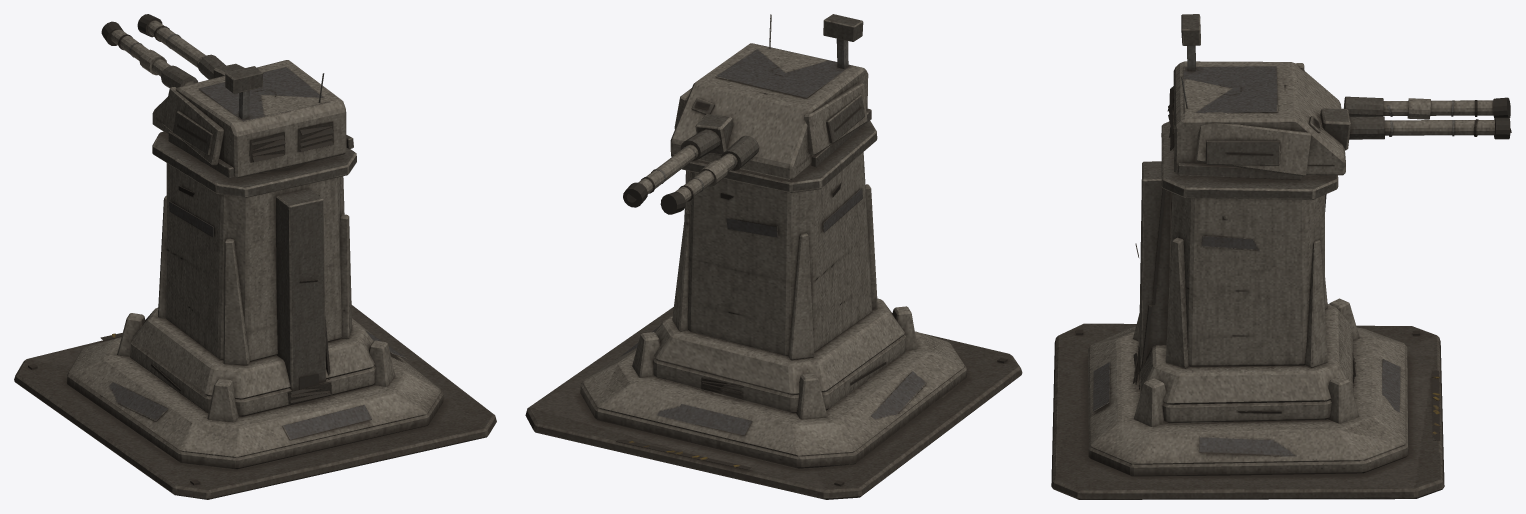
Rendered from ord_bastion_wreck.fbx.
The picture shows the model from 3 angles, left to right: view 1: azimuth 30°, elevation 25°; view 2: azimuth 150°, elevation 25°; view 3: azimuth 270°, elevation 25°; orthographic projection. The views are drawn at different scales.
Parts seen in each view (by area): view 1: base_bar, turret_bar; view 2: base_bar, turret_bar; view 3: base_bar, turret_bar.
Part boxes in pixels (<box>): base_bar: <box>14,131,496,499</box>; turret_bar: <box>101,14,353,178</box>; base_bar: <box>525,120,1022,499</box>; turret_bar: <box>623,14,871,214</box>; base_bar: <box>1051,121,1444,499</box>; turret_bar: <box>1167,14,1511,180</box>.
Size of the model in its own units: 2364 by 2674 by 2751.
2 materials, 2 textured.
